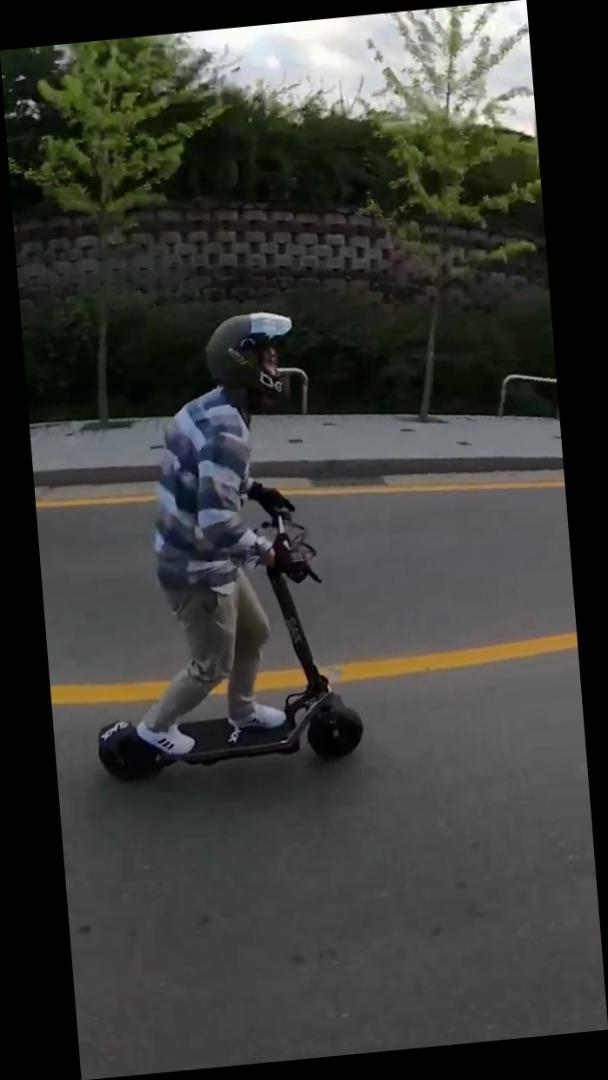helmet: (59, 299, 374, 795)
